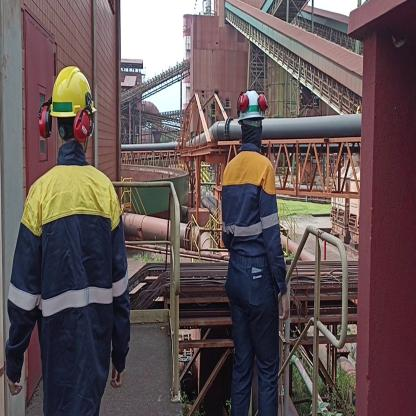Balaclava: (242, 118, 260, 146)
C_eletrica: (1, 161, 134, 406)
Capacete: (46, 57, 98, 128), (240, 88, 264, 117)
Operacional: (219, 150, 286, 294)
